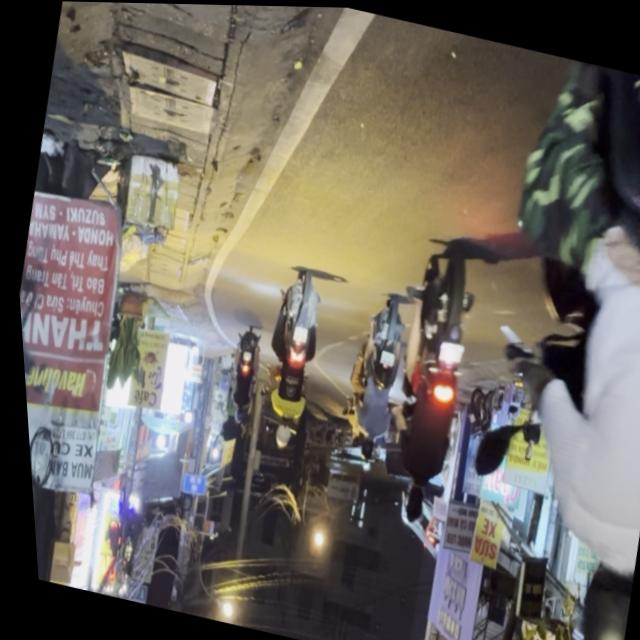helmet: (548, 547, 632, 640)
licenseplate: (397, 47, 640, 640), (356, 231, 496, 534)
motorcyclist: (391, 477, 423, 524)
nohelmet: (431, 338, 460, 364)
